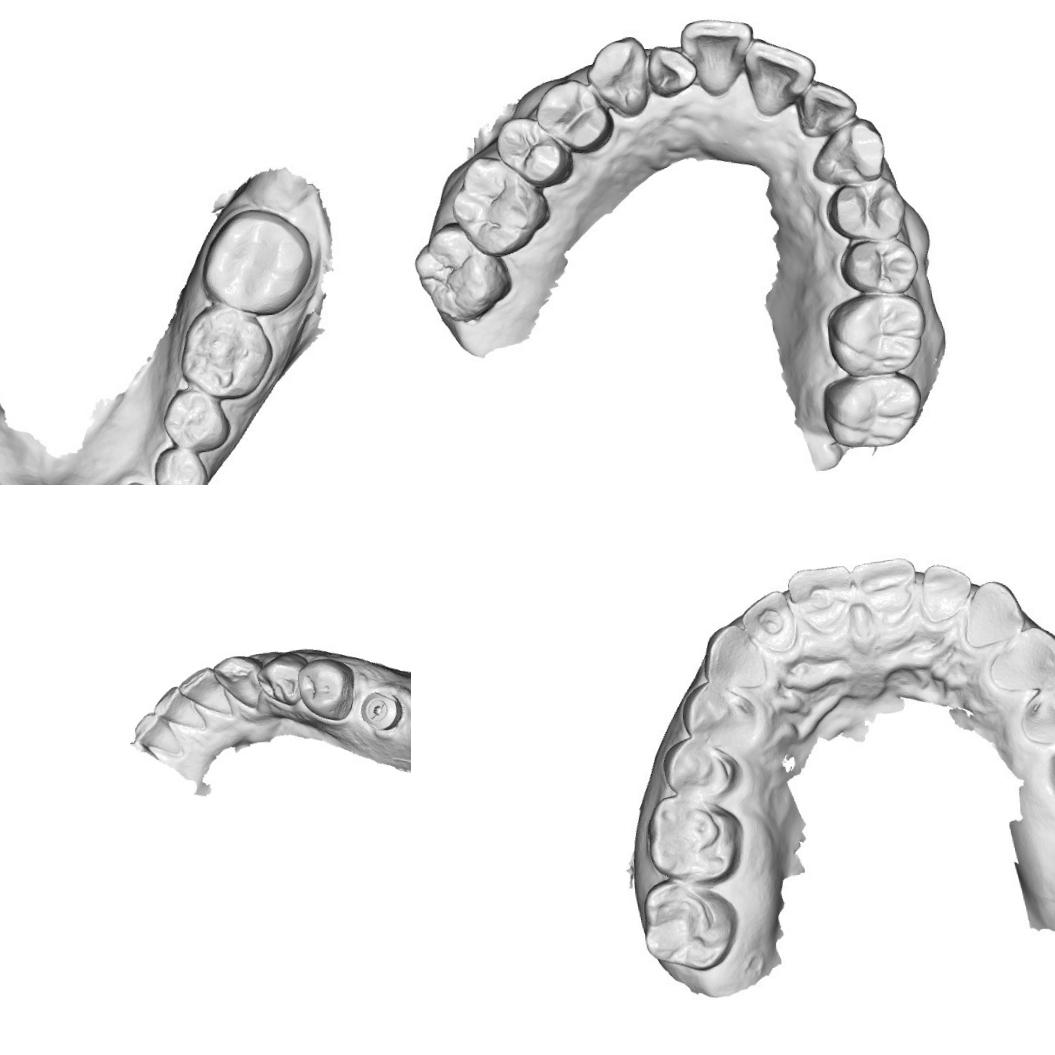canine: (808, 113, 888, 190), (584, 34, 653, 120), (700, 622, 772, 688), (210, 650, 268, 718), (966, 578, 1024, 646)
implant_minus: (355, 687, 403, 735)
incisor: (742, 32, 816, 116), (852, 554, 926, 632), (684, 15, 754, 97), (792, 562, 863, 640), (788, 74, 864, 142), (745, 585, 805, 657), (918, 560, 973, 628), (643, 40, 700, 98), (154, 682, 210, 737), (129, 709, 180, 756), (179, 664, 230, 708)
molar: (200, 207, 311, 316), (444, 154, 554, 259), (411, 223, 514, 327), (176, 300, 278, 402), (826, 283, 931, 378), (818, 368, 926, 454), (643, 872, 733, 968), (649, 794, 734, 882)
premolar: (531, 78, 612, 157), (834, 226, 922, 298), (494, 111, 568, 192), (823, 178, 908, 245), (160, 386, 230, 462), (682, 678, 756, 740), (295, 655, 358, 723), (664, 736, 734, 793), (991, 627, 1055, 688), (1020, 675, 1055, 748), (257, 655, 306, 704), (153, 446, 212, 485)
